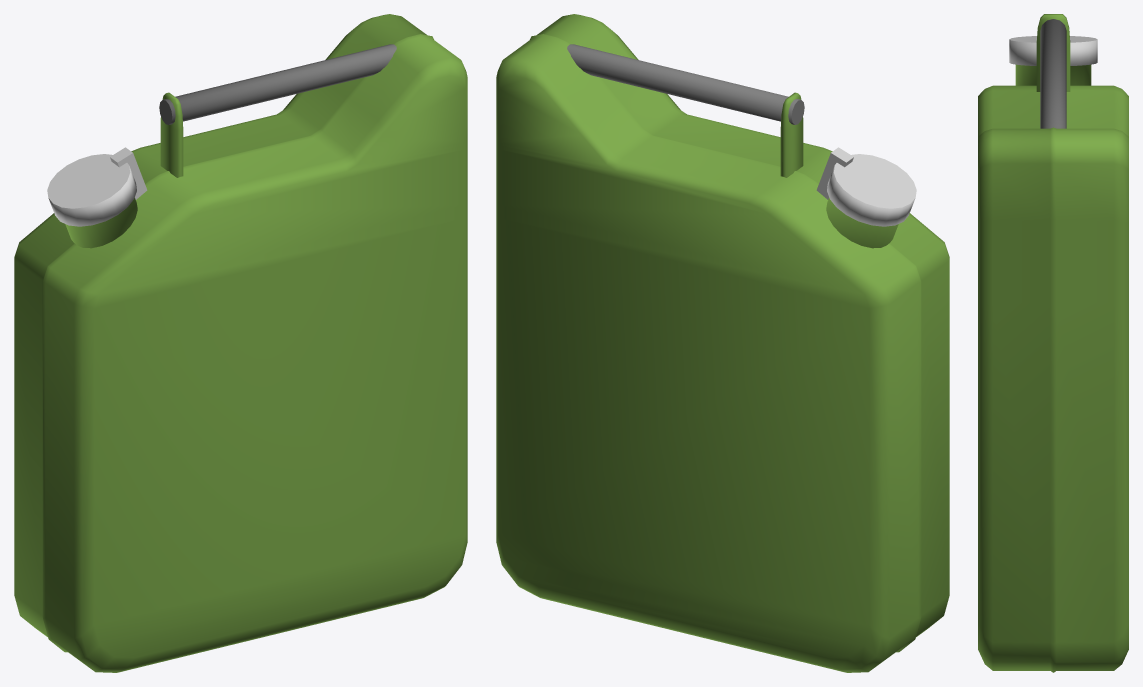
The model's file is uploads_files_2284244_NVJOB+Low+Poly+Jerrycan.fbx.
3 renders of one model, left to right at view 1: azimuth 30°, elevation 25°; view 2: azimuth 150°, elevation 25°; view 3: azimuth 270°, elevation 25°, orthographic.
Parts seen in each view (by area): view 1: Jerrycan; view 2: Jerrycan; view 3: Jerrycan.
Boxes of the visible parts, x1,y1,x2,y2 form: Jerrycan: (14,14,467,672); Jerrycan: (496,14,949,672); Jerrycan: (978,14,1128,672).
Bounding box in the file's own units: 155 × 202 × 50.63.
